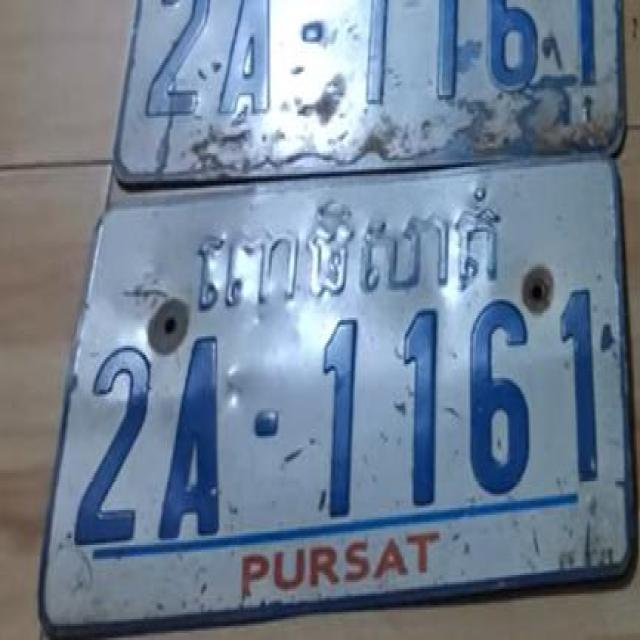Pursat: (195, 186, 500, 306)
